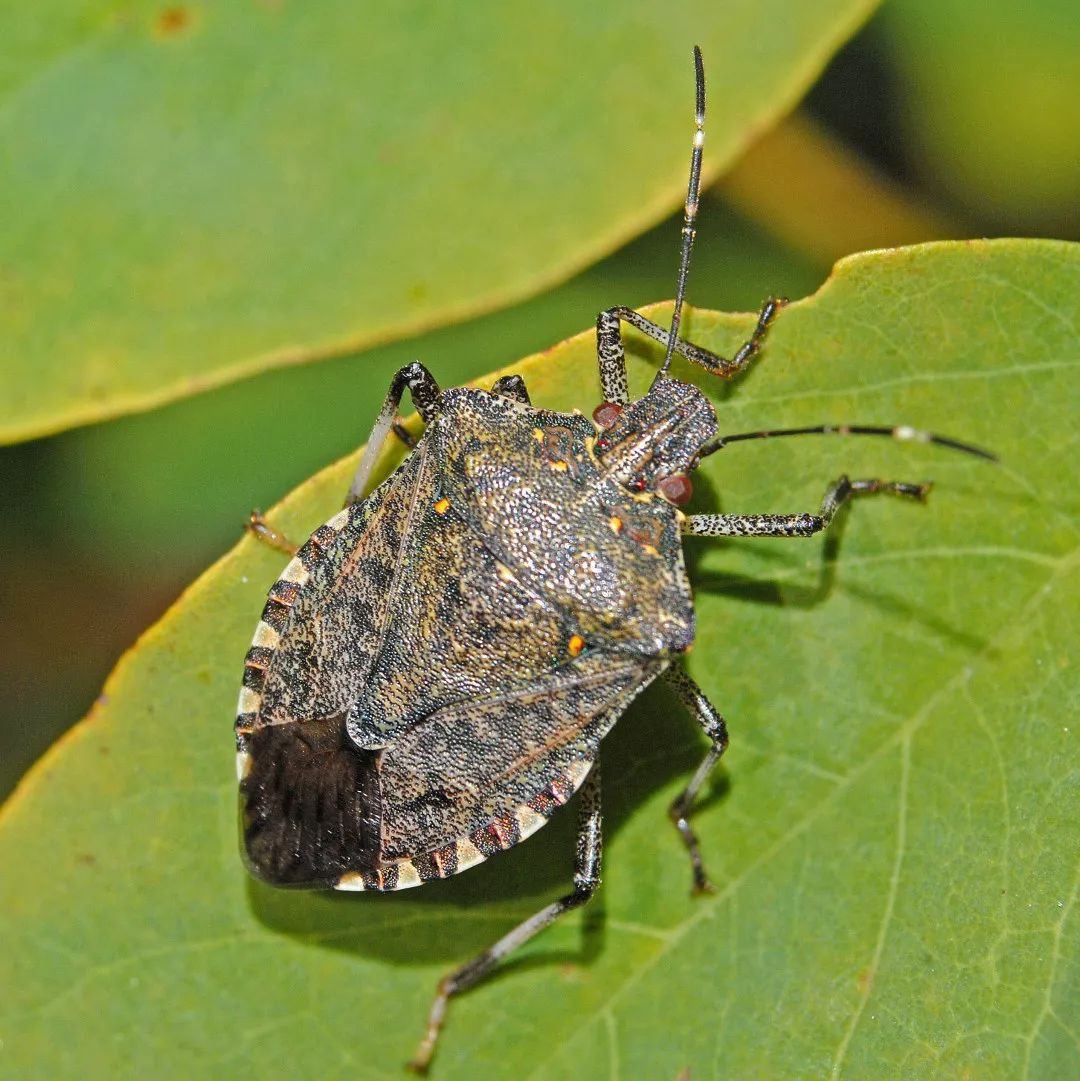chunchong: (214, 316, 902, 946)
